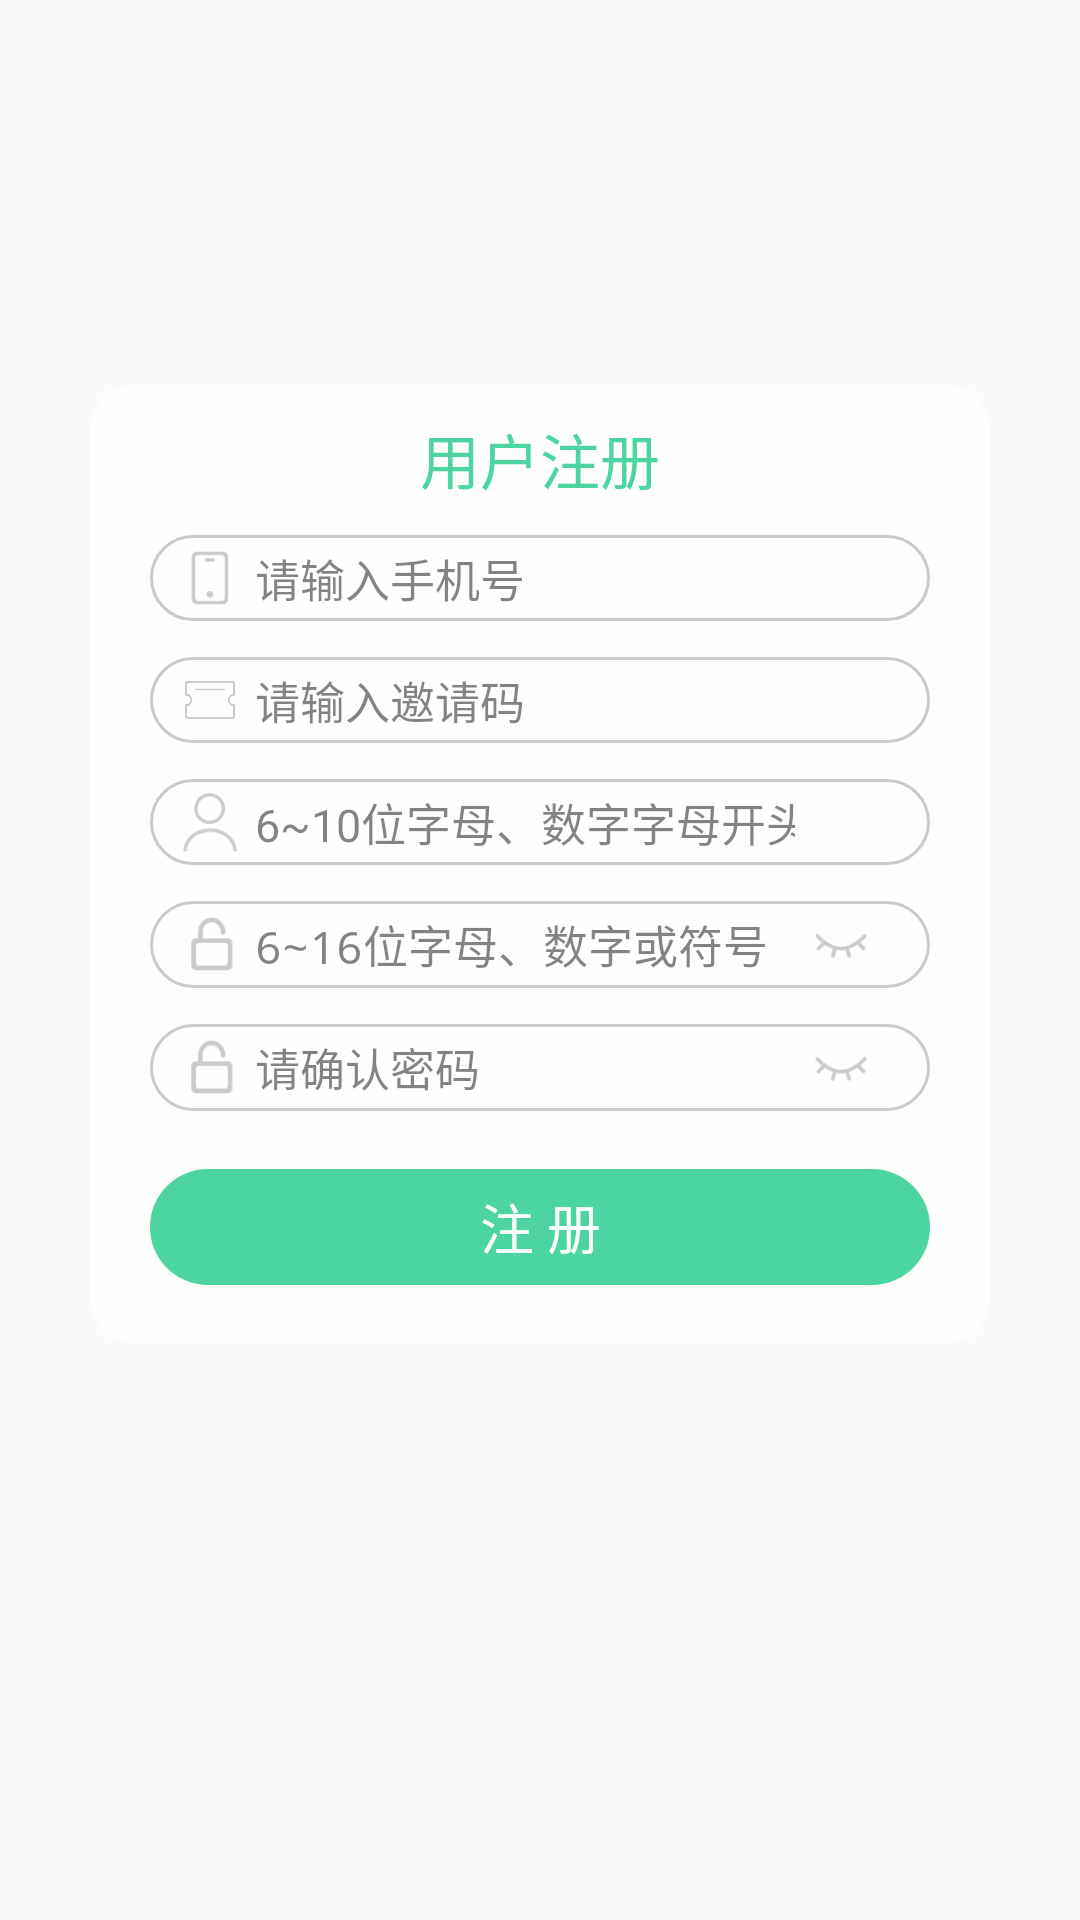

Named icons in this screenshot (1080×1920) and their centers, (x=x, y=y):
invisible: (x=841, y=946), (x=841, y=1069)
password: (x=211, y=944), (x=211, y=1067)
phone: (x=210, y=578)
user: (x=210, y=822)
